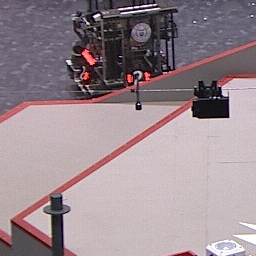Red: (124, 69, 152, 86), (78, 65, 91, 84)
Robot: (65, 1, 182, 93)
